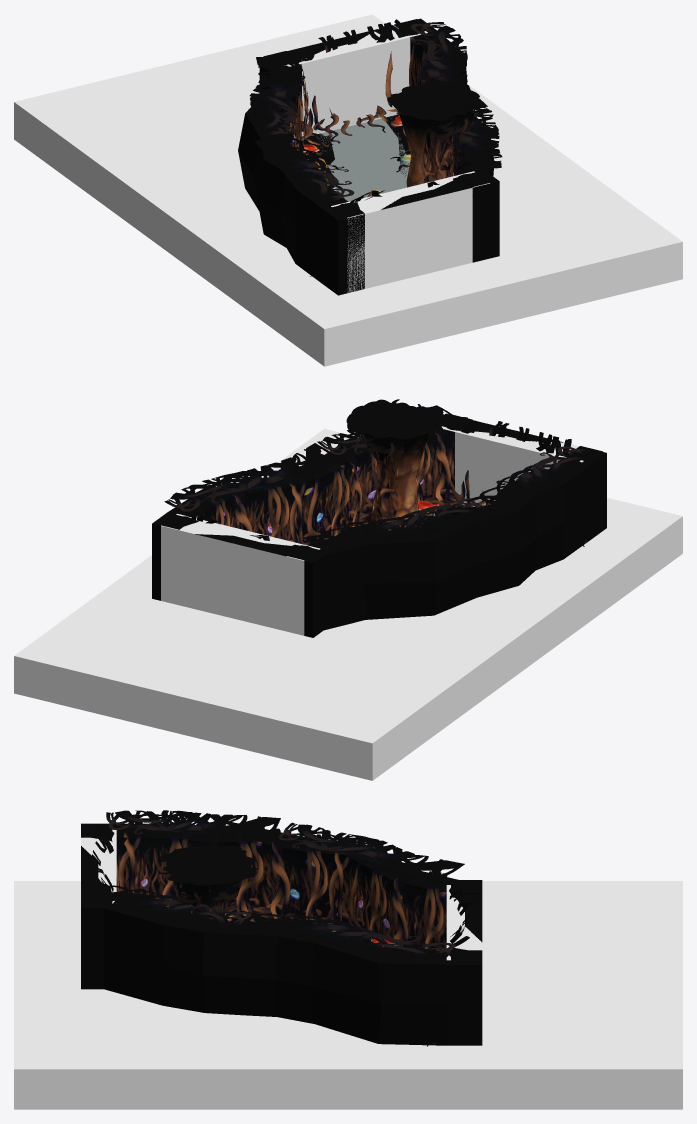
File: Dungeon_021_Road_003.fbx
The picture shows the model from 3 angles, top to bottom: view 1: azimuth 30°, elevation 25°; view 2: azimuth 150°, elevation 25°; view 3: azimuth 270°, elevation 25°; orthographic projection. The views are drawn at different scales.
Visible parts, largest first — view 1: Cube, DoorWay_NavMask (1) (×2), Dan1, Dungeon_021_Tsuta_002, Quad_Nav_SP, Dungeon_021_Object_010, un_021_Door_002_Object1, un_021_Door_002 (×2), Dungeon_021_Tsuta_001, Dungeon_011_Object_010, Dungeon_021_Object_011, Dan1_shadow (+1 smaller); view 2: Cube, Dan1, DoorWay_NavMask (1) (×2), Dungeon_021_Tsuta_002, Dungeon_021_Tsuta_001, Dungeon_021_Object_010, un_021_Door_002 (×2), Dungeon_011_Object_010, Dungeon_021_Object_011, un_021_Door_002_Object1, DoorWay_NavMask; view 3: Cube, Dan1, Dungeon_021_Tsuta_002, Dungeon_021_Tsuta_001, Dungeon_021_Object_010, un_021_Door_002 (×2), DoorWay_NavMask (1), un_021_Door_002_Object1 (×2), DoorWay_NavMask.
Boxes of the visible parts, bbox=[...] form: Cube: bbox=[14, 14, 682, 366]; DoorWay_NavMask (1) (×2): bbox=[284, 31, 489, 292]; Dan1: bbox=[238, 18, 499, 295]; Dungeon_021_Tsuta_002: bbox=[249, 22, 502, 202]; Quad_Nav_SP: bbox=[317, 119, 409, 201]; Dungeon_021_Object_010: bbox=[387, 80, 482, 140]; un_021_Door_002_Object1: bbox=[301, 19, 409, 145]; un_021_Door_002 (×2): bbox=[263, 19, 495, 218]; Dungeon_021_Tsuta_001: bbox=[253, 36, 478, 199]; Dungeon_011_Object_010: bbox=[397, 109, 438, 187]; Dungeon_021_Object_011: bbox=[422, 115, 461, 183]; Dan1_shadow: bbox=[301, 114, 410, 176]; Cube: bbox=[14, 428, 682, 780]; Dan1: bbox=[152, 413, 606, 637]; DoorWay_NavMask (1) (×2): bbox=[161, 426, 583, 635]; Dungeon_021_Tsuta_002: bbox=[164, 405, 596, 550]; Dungeon_021_Tsuta_001: bbox=[191, 421, 572, 544]; Dungeon_021_Object_010: bbox=[346, 399, 436, 462]; un_021_Door_002 (×2): bbox=[156, 414, 602, 561]; Dungeon_011_Object_010: bbox=[385, 430, 429, 530]; Dungeon_021_Object_011: bbox=[362, 441, 418, 530]; un_021_Door_002_Object1: bbox=[440, 420, 586, 546]; DoorWay_NavMask: bbox=[179, 520, 299, 545]; Cube: bbox=[14, 881, 682, 1109]; Dan1: bbox=[81, 823, 482, 1045]; Dungeon_021_Tsuta_002: bbox=[89, 810, 464, 959]; Dungeon_021_Tsuta_001: bbox=[118, 821, 447, 951]; Dungeon_021_Object_010: bbox=[158, 845, 258, 908]; un_021_Door_002 (×2): bbox=[81, 825, 482, 962]; DoorWay_NavMask (1): bbox=[446, 885, 482, 960]; un_021_Door_002_Object1 (×2): bbox=[87, 828, 475, 1046]; DoorWay_NavMask: bbox=[81, 837, 112, 892].
Size of what is drawn, in the model's own units: 10 by 4.01 by 15.
